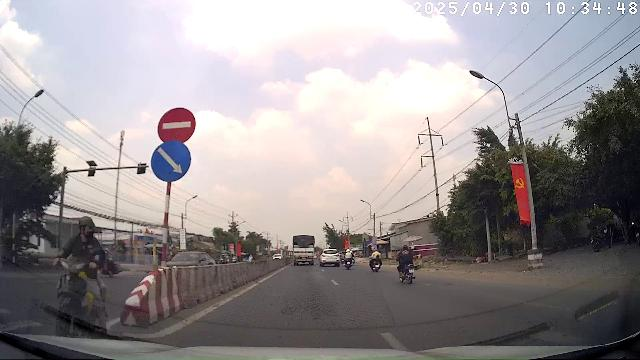102-cam-di-nguoc-chieu: (157, 107, 196, 142)
302a-huong-phai-di-vong-chuong-ngai-vat-1: (150, 142, 192, 182)
